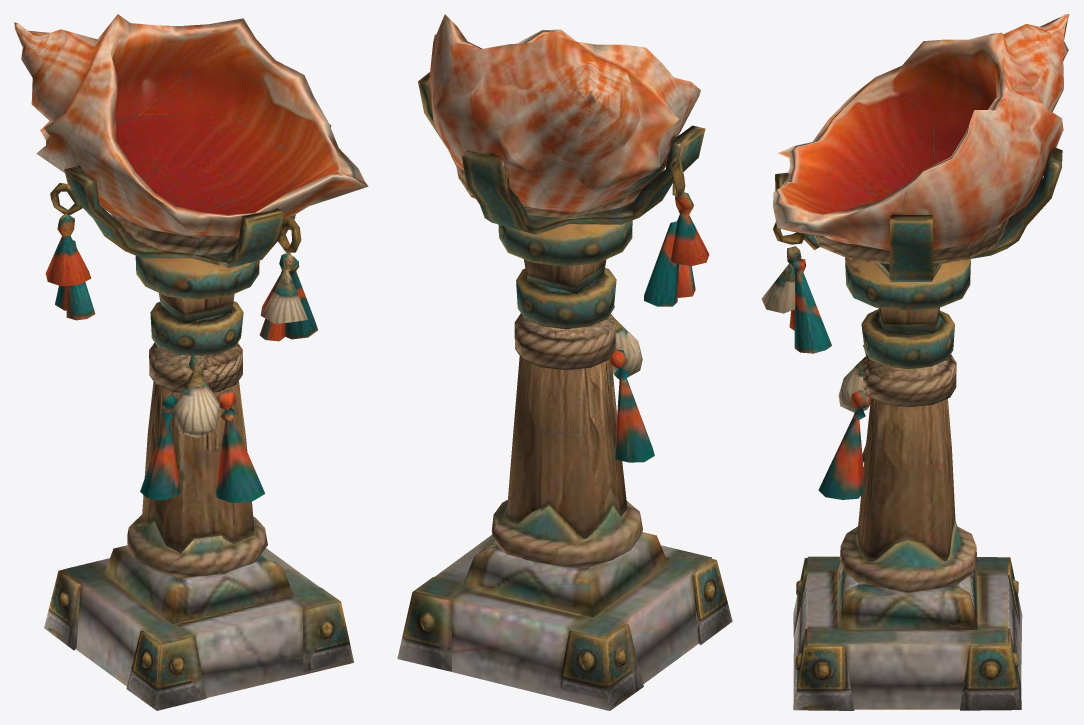
Rendered from brazier.glb.
3 renders of one model, left to right at view 1: azimuth 30°, elevation 25°; view 2: azimuth 150°, elevation 25°; view 3: azimuth 270°, elevation 25°, orthographic. The views are drawn at different scales.
Visible parts, largest first — view 1: brazier; view 2: brazier; view 3: brazier.
Part boxes in pixels (x1,y1,x2,y2): brazier: [14, 14, 368, 710]; brazier: [397, 14, 732, 710]; brazier: [761, 14, 1069, 710].
Bounding box in the file's own units: 0.4575 × 1 × 0.4562.
1 material, 1 textured.
